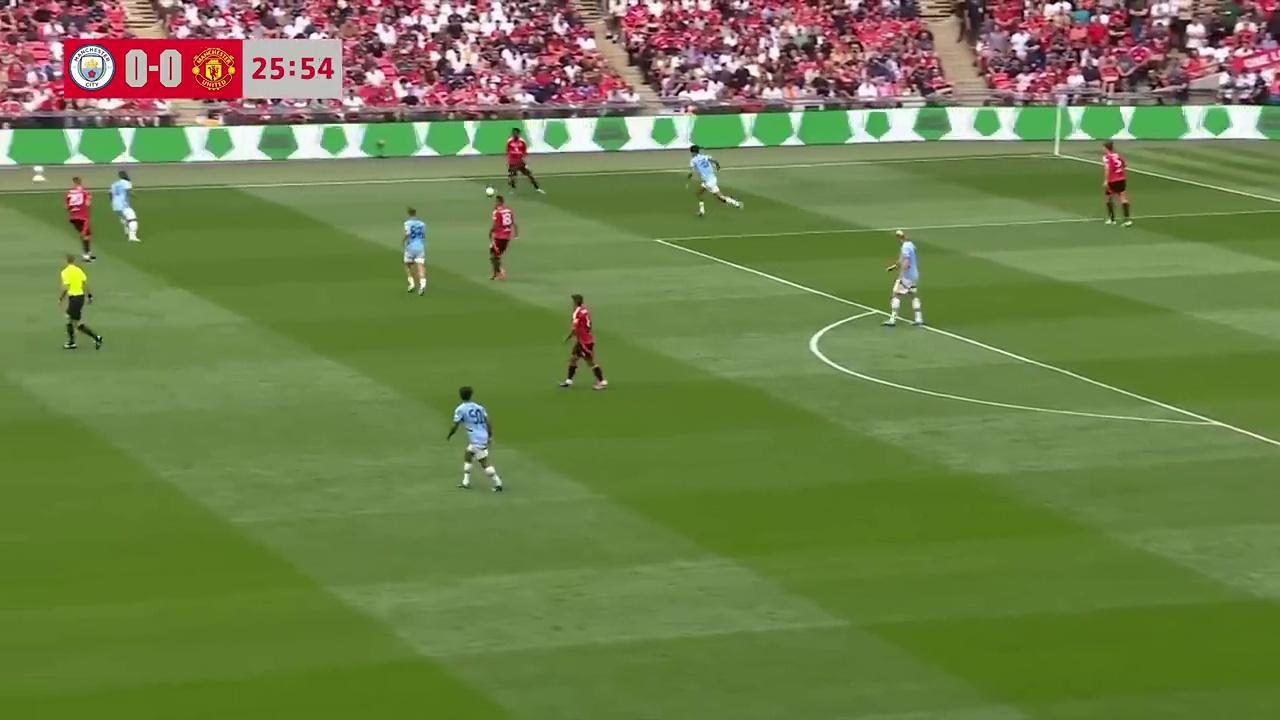ball: (483, 182, 496, 198)
player: (444, 386, 504, 492), (558, 294, 608, 390), (686, 147, 737, 217), (889, 226, 923, 329), (63, 175, 93, 260), (1101, 145, 1132, 226), (488, 195, 517, 281), (505, 136, 545, 193), (108, 171, 139, 242), (402, 206, 426, 295)
referee: (57, 253, 103, 351)
